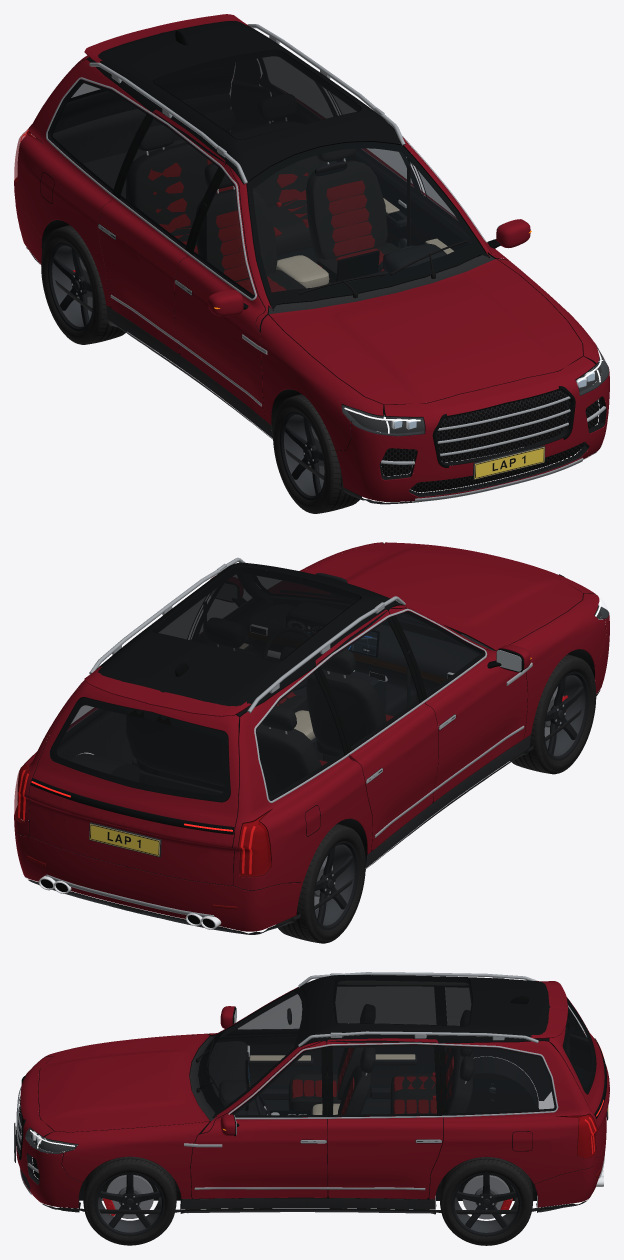
Rendered from super-suv.glb.
The picture shows the model from 3 angles, top to bottom: view 1: azimuth 30°, elevation 25°; view 2: azimuth 150°, elevation 25°; view 3: azimuth 270°, elevation 25°; orthographic projection. The views are drawn at different scales.
Visible parts, largest first — view 1: Body, Wheel_FR, Wheel_RR; view 2: Body, Wheel_RR, Wheel_FR, Steering_Wheel; view 3: Body, Wheel_FL, Wheel_RL.
Part boxes in pixels (<box>): Body: <box>14,14,609,504</box>; Wheel_FR: <box>273,394,361,513</box>; Wheel_RR: <box>41,225,126,344</box>; Body: <box>14,542,609,934</box>; Wheel_RR: <box>276,823,365,943</box>; Wheel_FR: <box>510,654,596,774</box>; Steering_Wheel: <box>263,627,310,690</box>; Body: <box>14,972,609,1215</box>; Wheel_FL: <box>83,1156,176,1245</box>; Wheel_RL: <box>439,1157,533,1245</box>.
Size of the model in its own units: 2.35 by 1.85 by 4.96.
Materials: 62 (13 with a texture image).
